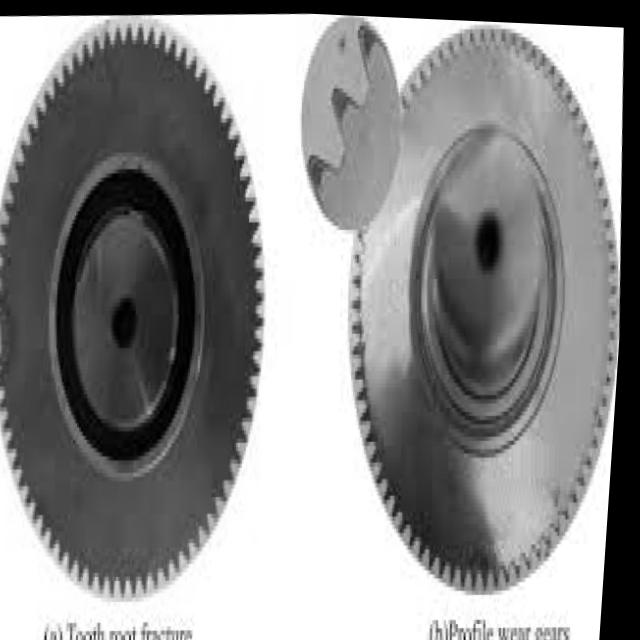Fault-Exist: (0, 13, 343, 603), (0, 239, 43, 511)
